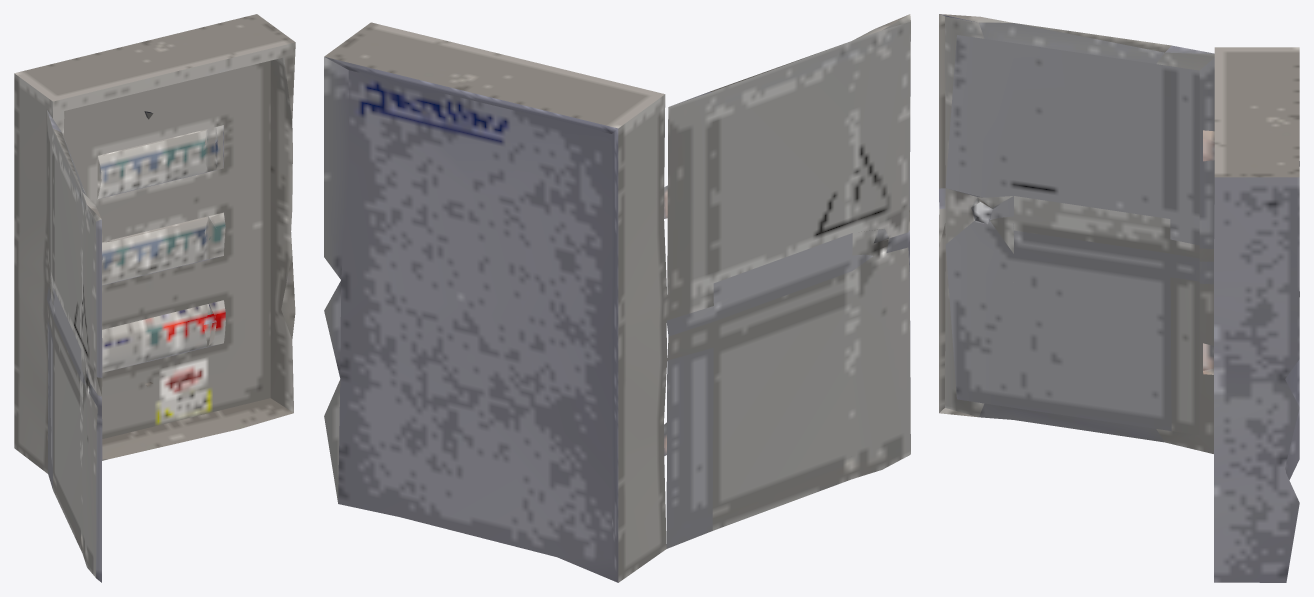
The model's file is power_box_01.glb.
The picture shows the model from 3 angles, left to right: view 1: azimuth 30°, elevation 25°; view 2: azimuth 150°, elevation 25°; view 3: azimuth 270°, elevation 25°; orthographic projection. The views are drawn at different scales.
Parts seen in each view (by area): view 1: mesh; view 2: mesh; view 3: mesh.
Boxes of the visible parts, box(x1,y1,x2,y2) form: mesh: box(14, 14, 295, 582); mesh: box(324, 14, 910, 582); mesh: box(939, 14, 1299, 582).
Bounding box in the file's own units: 0.453 × 0.5031 × 0.3995.
Materials: 1 (1 with a texture image).
